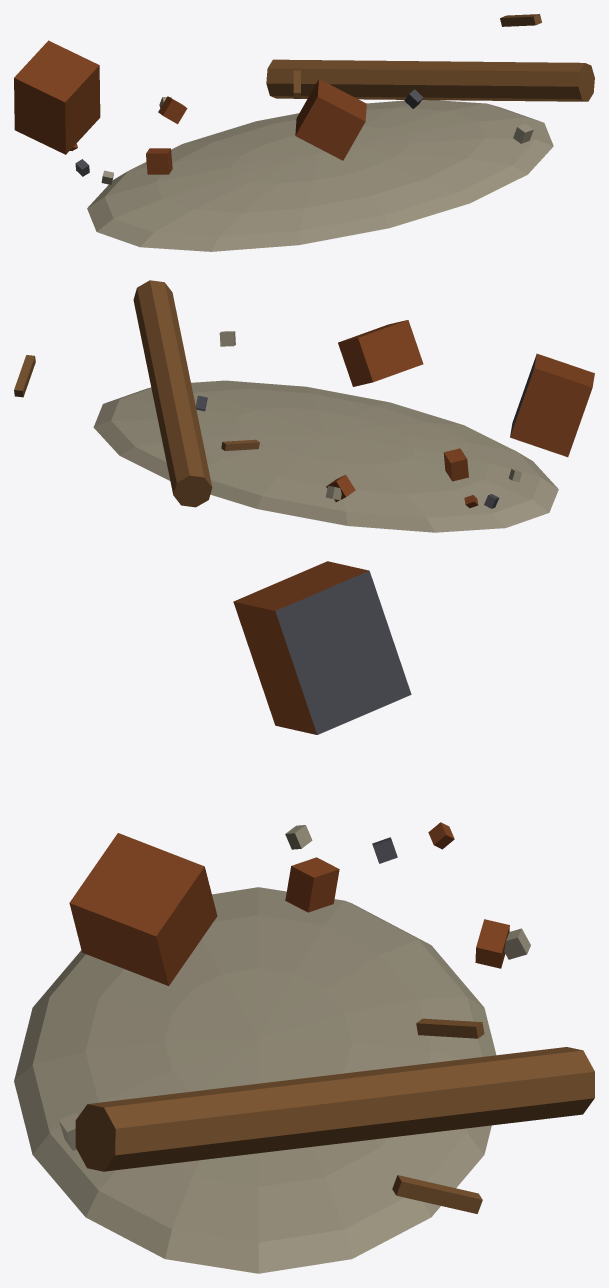
The model's file is Hammer_Dust.obj.
3 renders of one model, top to bottom at view 1: azimuth 30°, elevation 25°; view 2: azimuth 150°, elevation 25°; view 3: azimuth 270°, elevation 25°, orthographic. The views are drawn at different scales.
Parts seen in each view (by area): view 1: HD_mound, HD_shaft, HD_head_a, HD_head_b, HD_rk4, HD_rk7, HD_splint1; view 2: HD_mound, HD_shaft, HD_head_a, HD_head_b, HD_rk4, HD_splint1, HD_splint2, HD_rk7; view 3: HD_mound, HD_shaft, HD_head_a, HD_head_b, HD_rk4, HD_splint1, HD_rk7, HD_splint2.
Boxes of the visible parts, box(x1,y1,x2,y2) form: HD_mound: box(87, 100, 553, 251); HD_shaft: box(266, 59, 594, 101); HD_head_a: box(14, 40, 100, 154); HD_head_b: box(295, 79, 366, 160); HD_rk4: box(146, 148, 172, 174); HD_rk7: box(158, 96, 187, 124); HD_splint1: box(500, 14, 541, 26); HD_mound: box(93, 380, 558, 532); HD_shaft: box(133, 280, 212, 507); HD_head_a: box(510, 353, 594, 457); HD_head_b: box(338, 320, 423, 386); HD_rk4: box(443, 448, 468, 481); HD_splint1: box(14, 355, 35, 397); HD_splint2: box(221, 439, 259, 450); HD_rk7: box(326, 474, 355, 501); HD_mound: box(14, 887, 496, 1273); HD_shaft: box(75, 1047, 594, 1171); HD_head_a: box(233, 561, 411, 734); HD_head_b: box(69, 833, 217, 985); HD_rk4: box(285, 857, 339, 912); HD_splint1: box(392, 1175, 482, 1213); HD_rk7: box(475, 919, 509, 968); HD_splint2: box(416, 1018, 484, 1038).
Bounding box in the file's own units: 1.74 × 0.5408 × 0.9088.
